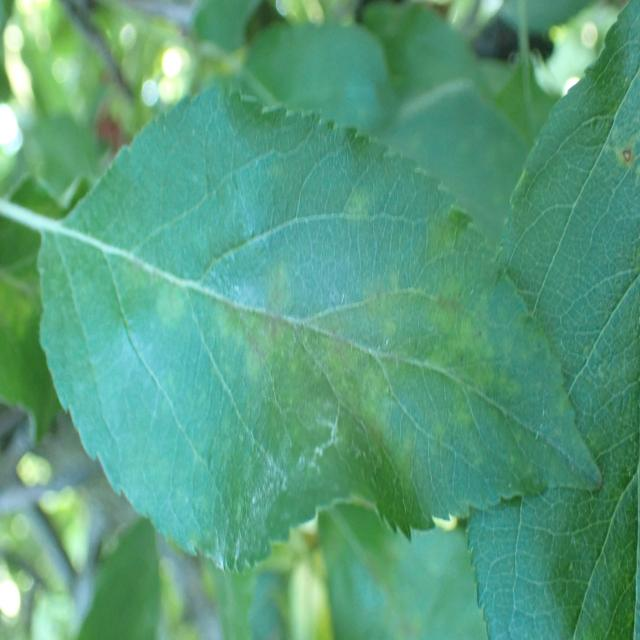scab: (48, 192, 561, 542), (587, 118, 640, 212)
